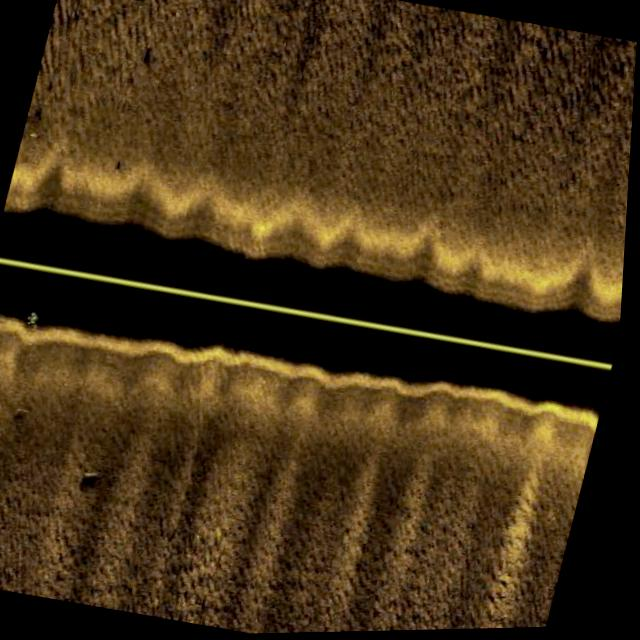mine: (81, 466, 108, 492)
